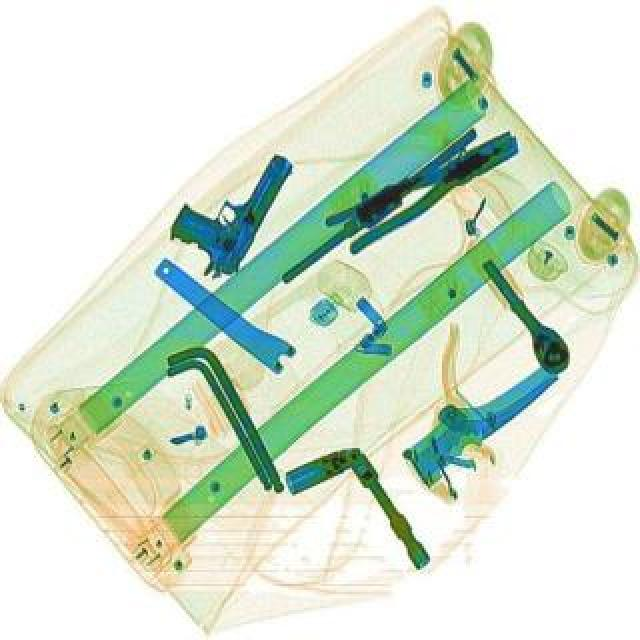gun: (156, 130, 294, 286)
wrench: (322, 124, 530, 256)
